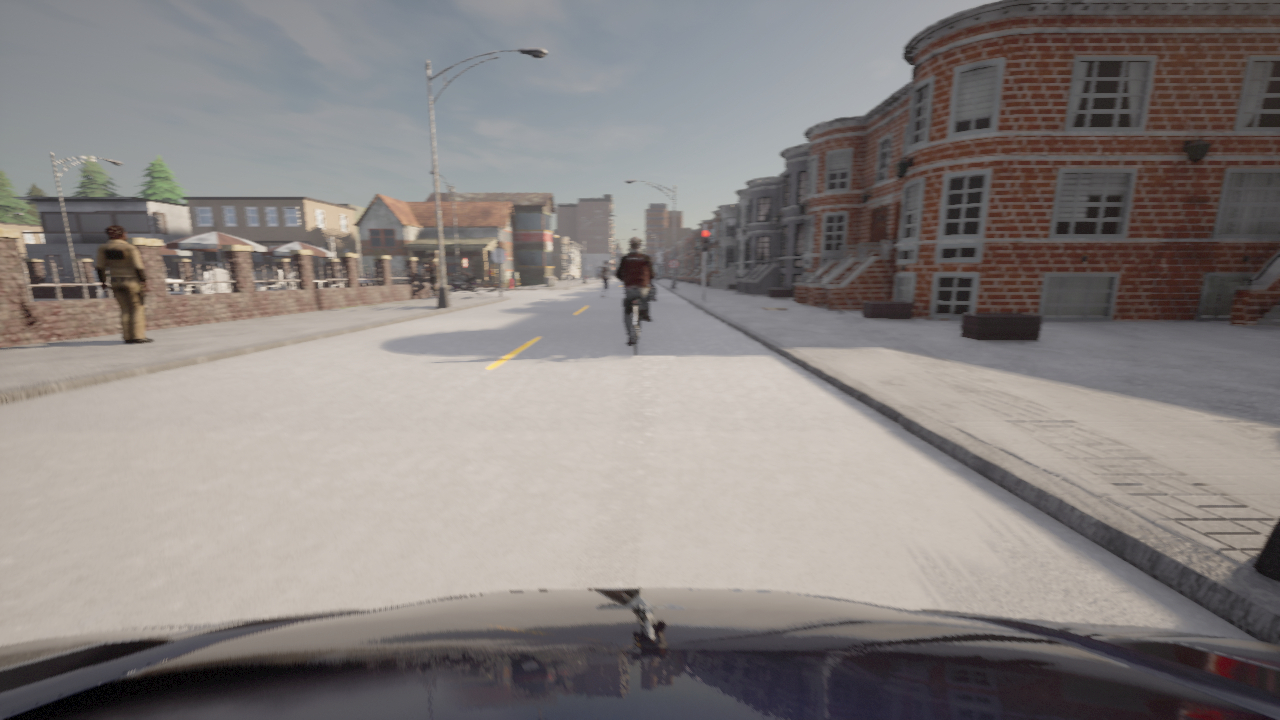cyclist: (0, 588, 1279, 719), (626, 299, 645, 354), (450, 274, 479, 291), (648, 282, 652, 300), (637, 298, 639, 315)
pedestrian: (95, 225, 153, 343), (424, 257, 439, 298), (600, 260, 610, 297), (486, 265, 497, 285)
